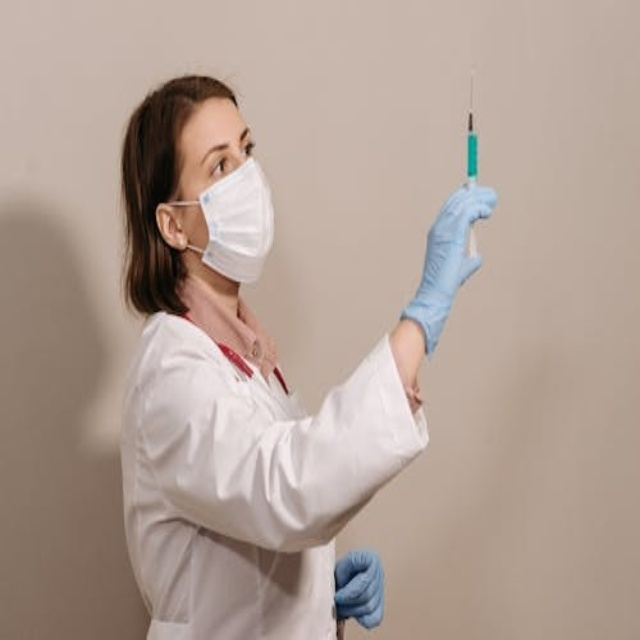Guantes: (400, 179, 497, 358), (334, 547, 385, 630)
Mascara: (176, 154, 275, 284)
Sin_gafas: (179, 121, 260, 184)
